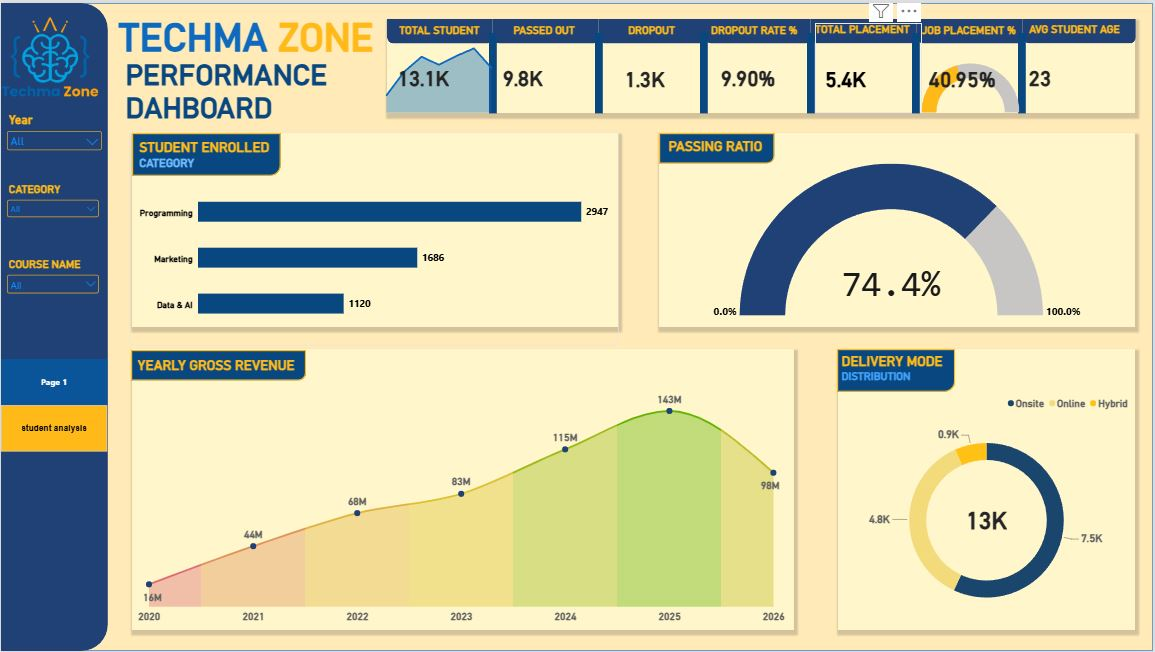

This screenshot's page, from the dashboard's own definition file:
{"tool":"powerbi","page":{"name":"Page 1","canvas":[1920,1080],"ordinal":0},"visuals":[{"type":"shape","box":[0,0,1920,1080],"z":0},{"type":"shape","box":[1395,576.7,495,468.3],"z":1000},{"type":"shape","box":[1393.3,576.3,197,71.5],"z":2000},{"type":"shape","box":[643.3,26.7,1246.7,156.7],"z":3000},{"type":"shape","box":[1702.6,26.3,188.2,40.9],"z":4000},{"type":"shape","box":[1526.1,26.3,176.5,40.9],"z":5000},{"type":"shape","box":[1349.5,26.3,176.5,40.9],"z":6000},{"type":"shape","box":[1173,26.3,176.5,40.9],"z":7000},{"type":"shape","box":[996,26.4,177.8,41.1],"z":8000},{"type":"shape","box":[819.9,26.3,176.5,40.9],"z":9000},{"type":"shape","box":[643.4,26.3,176.5,40.9],"z":10000},{"type":"shape","box":[218.3,216.7,810,323.3],"z":11000},{"type":"shape","box":[218.8,217.4,248,71.5],"z":12000},{"type":"barChart","title":"STUDENT ENROLLED","fields":{"Category":["Course.category"],"Y":["Enrollment.TOTAL_STUDENT"]},"box":[212.9,211.4,815.7,358.6],"z":13000},{"type":"shape","box":[218.3,576.7,1103.3,468.3],"z":14000},{"type":"shape","box":[1096.7,216.7,793.3,323.3],"z":15000},{"type":"cardVisual","title":"PASSED OUT ","fields":{"Data":["Enrollment.passed out"]},"box":[819.9,35,170.7,147.4],"z":16000},{"type":"cardVisual","title":"DROPOUT","fields":{"Data":["Enrollment.drop out"]},"box":[1023.9,35.3,121.9,148.4],"z":18000},{"type":"cardVisual","title":"DROPOUT RATE %","fields":{"Data":["Enrollment.drop out rate %"]},"box":[1184,35.3,235,146.9],"z":19000},{"type":"donutChart","title":"DELIVERY MODE","fields":{"Category":["Batch.delivery_mode"],"Y":["Enrollment.Enrollments"]},"box":[1384.6,570.5,515,485.8],"z":20000},{"type":"shape","box":[0,0,178.3,1080],"z":21000},{"type":"image","box":[0,8.3,163.3,165],"z":22000},{"type":"cardVisual","title":"AVG STUDENT AGE","fields":{"Data":["Student.Average Student Age"]},"box":[1696.7,33.8,185.1,148.4],"z":23000},{"type":"slicer","fields":{"Values":["Enrollment.Enroll Year"]},"box":[4.4,183.8,168,217],"z":24000},{"type":"shape","box":[1097.1,215.9,192.6,51.1],"z":25000},{"type":"shape","title":"YEARLY GR","box":[217.4,577.8,291.8,51.1],"z":26000},{"type":"cardVisual","title":"TOTAL PLACEMENT","fields":{"Data":["Enrollment.placement count"]},"box":[1357.4,35.3,177.8,148.4],"z":27000},{"type":"pageNavigator","box":[0,593.5,177.8,155.7],"z":29000},{"type":"shape","box":[812.6,49.6,13.1,134.2],"z":30000},{"type":"shape","box":[990.6,49.6,13.1,134.2],"z":31000},{"type":"shape","box":[1165.7,49.6,13.1,134.2],"z":32000},{"type":"shape","box":[1343.7,49.6,13.1,134.2],"z":33000},{"type":"shape","box":[1518.8,49.6,13.1,134.2],"z":34000},{"type":"shape","box":[1695.3,49.6,13.1,134.2],"z":35000},{"type":"gauge","title":"PASSING RATIO","fields":{"Y":["Enrollment.passing percentage"]},"box":[1097.1,211.6,793.7,329.7],"z":36000},{"type":"lineChart","title":"YEARLY GROSS REVENUE","fields":{"Y":["Sum(Enrollment.amount_paid_pkr)"],"Category":["Enrollment.enrollment_date.Variation.Date Hierarchy.Year"]},"box":[211.3,577,1110.6,473.6],"z":37000},{"type":"slicer","fields":{"Values":["Course.course_name"]},"box":[4.4,424.6,163.4,153.2],"z":38000},{"type":"slicer","fields":{"Values":["Course.category"]},"box":[4.4,300.5,163.4,151.7],"z":39000},{"type":"textbox","box":[194.8,18,458.6,193.3],"z":40000},{"type":"lineChart","fields":{"Y":["Enrollment.TOTAL_STUDENT"],"Category":["Enrollment.Enroll Year"]},"box":[616.7,35,226.7,165],"z":41000},{"type":"gauge","fields":{"Y":["Enrollment.placement pct"]},"box":[1518.3,68.3,195,148.3],"z":41250},{"type":"cardVisual","title":"TOTAL STUDENT","fields":{"Data":["Enrollment.TOTAL_STUDENT"]},"box":[630.2,33.8,201.3,146.9],"z":41500},{"type":"cardVisual","title":"JOB PLACEMENT %","fields":{"Data":["Enrollment.placement pct"]},"box":[1530.7,35.3,166,148.4],"z":42000}]}

Visuals, with their boxes on the page's 1920x1080 design canvas (x1, y1, x2, y2). These are canvas units, not pixel positions in the 1155x652 screenshot, which may show the page scaled, cropped or inside an application window:
shape: <bbox>0, 0, 1920, 1080</bbox>
shape: <bbox>1395, 577, 1890, 1045</bbox>
shape: <bbox>1393, 576, 1590, 648</bbox>
shape: <bbox>643, 27, 1890, 183</bbox>
shape: <bbox>1703, 26, 1891, 67</bbox>
shape: <bbox>1526, 26, 1703, 67</bbox>
shape: <bbox>1350, 26, 1526, 67</bbox>
shape: <bbox>1173, 26, 1350, 67</bbox>
shape: <bbox>996, 26, 1174, 68</bbox>
shape: <bbox>820, 26, 996, 67</bbox>
shape: <bbox>643, 26, 820, 67</bbox>
shape: <bbox>218, 217, 1028, 540</bbox>
shape: <bbox>219, 217, 467, 289</bbox>
"STUDENT ENROLLED" barChart: <bbox>213, 211, 1029, 570</bbox>
shape: <bbox>218, 577, 1322, 1045</bbox>
shape: <bbox>1097, 217, 1890, 540</bbox>
"PASSED OUT " cardVisual: <bbox>820, 35, 991, 182</bbox>
"DROPOUT" cardVisual: <bbox>1024, 35, 1146, 184</bbox>
"DROPOUT RATE %" cardVisual: <bbox>1184, 35, 1419, 182</bbox>
"DELIVERY MODE" donutChart: <bbox>1385, 570, 1900, 1056</bbox>
shape: <bbox>0, 0, 178, 1080</bbox>
image: <bbox>0, 8, 163, 173</bbox>
"AVG STUDENT AGE" cardVisual: <bbox>1697, 34, 1882, 182</bbox>
slicer - Enrollment.Enroll Year: <bbox>4, 184, 172, 401</bbox>
shape: <bbox>1097, 216, 1290, 267</bbox>
"YEARLY GR" shape: <bbox>217, 578, 509, 629</bbox>
"TOTAL PLACEMENT" cardVisual: <bbox>1357, 35, 1535, 184</bbox>
pageNavigator: <bbox>0, 594, 178, 749</bbox>
shape: <bbox>813, 50, 826, 184</bbox>
shape: <bbox>991, 50, 1004, 184</bbox>
shape: <bbox>1166, 50, 1179, 184</bbox>
shape: <bbox>1344, 50, 1357, 184</bbox>
shape: <bbox>1519, 50, 1532, 184</bbox>
shape: <bbox>1695, 50, 1708, 184</bbox>
"PASSING RATIO" gauge: <bbox>1097, 212, 1891, 541</bbox>
"YEARLY GROSS REVENUE" lineChart: <bbox>211, 577, 1322, 1051</bbox>
slicer - Course.course_name: <bbox>4, 425, 168, 578</bbox>
slicer - Course.category: <bbox>4, 300, 168, 452</bbox>
textbox: <bbox>195, 18, 653, 211</bbox>
lineChart - Enrollment.TOTAL_STUDENT x Enrollment.Enroll Year: <bbox>617, 35, 843, 200</bbox>
gauge - Enrollment.placement pct: <bbox>1518, 68, 1713, 217</bbox>
"TOTAL STUDENT" cardVisual: <bbox>630, 34, 832, 181</bbox>
"JOB PLACEMENT %" cardVisual: <bbox>1531, 35, 1697, 184</bbox>
